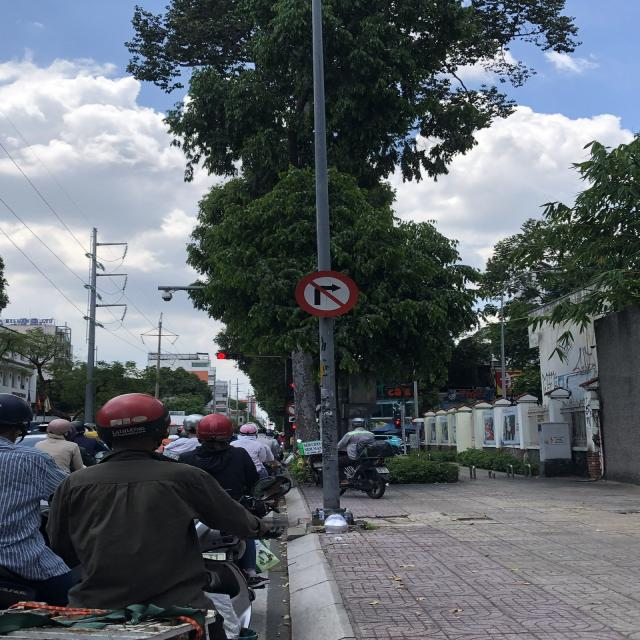Bien bao cam re phai: (293, 266, 361, 318)
